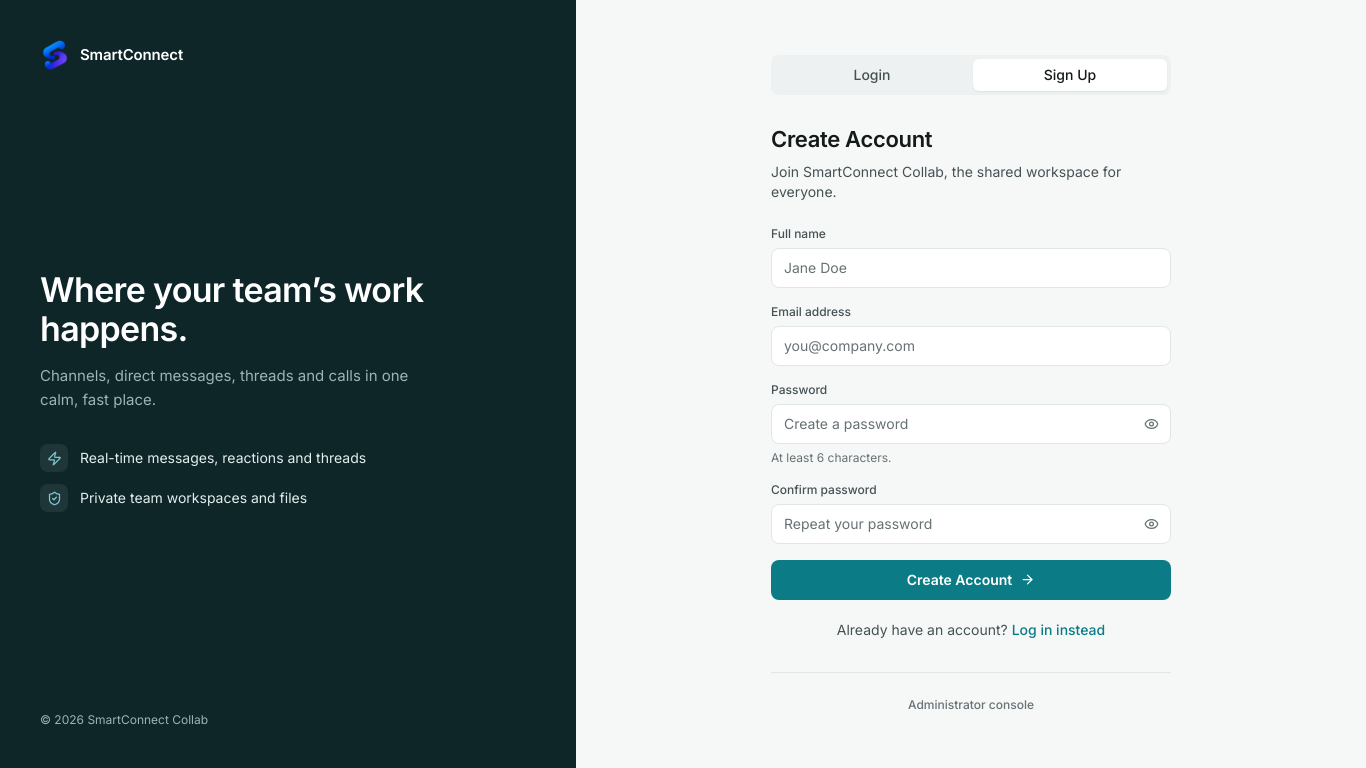
Scenario: AuthForm — public sign-up › clears a field’s error as soon as it is edited
Click the button "Create Account" at (971, 580), box left=771, top=560, right=1171, bottom=600
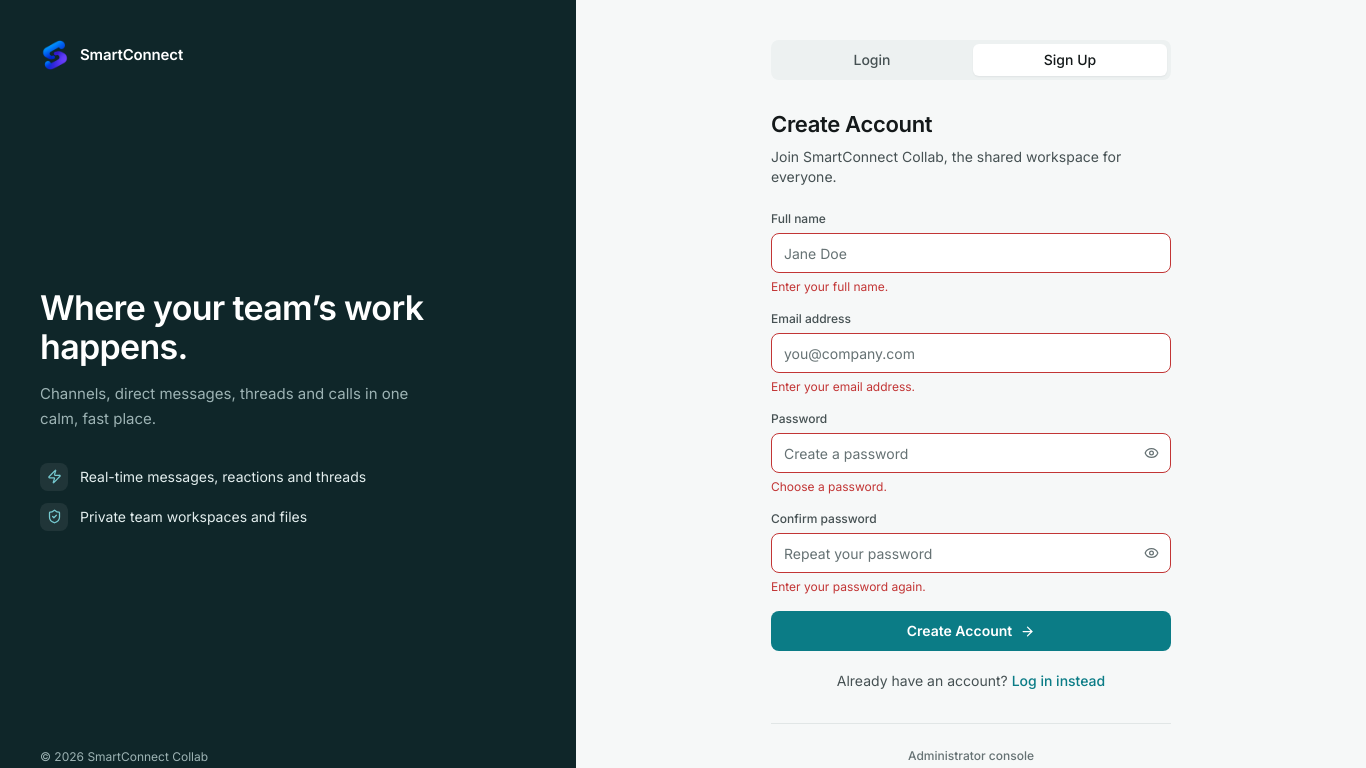
Expected: the text "Enter your full name." is shown, left=771, top=279, right=888, bottom=294
Type "N" into the field labelled "Full name" at (971, 253), box left=771, top=233, right=1171, bottom=273
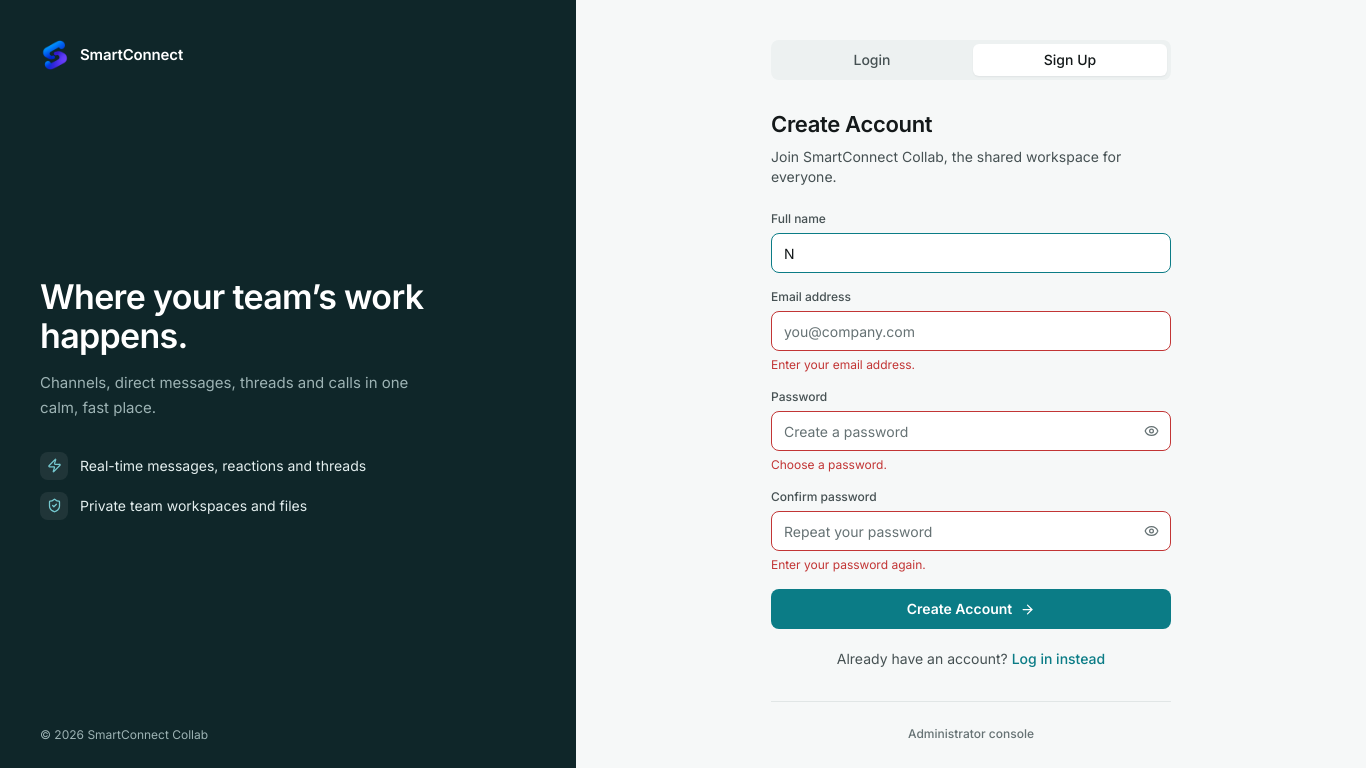
Expected: the text "Enter your full name." is gone
